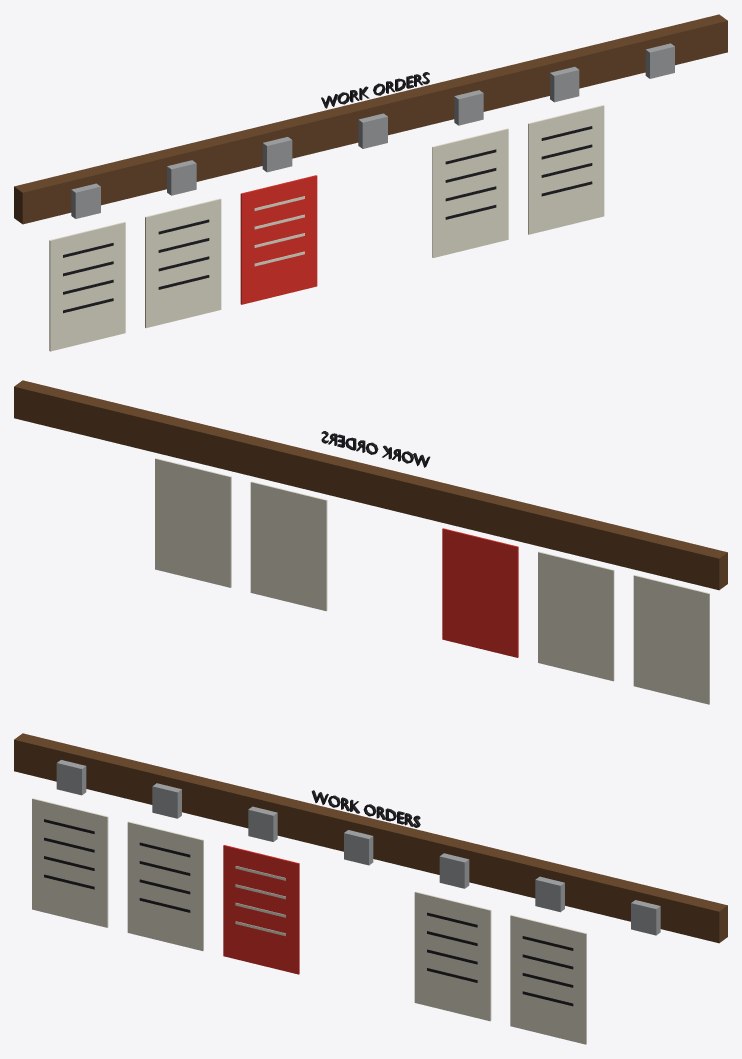
Rendered from dc.clip-rail.glb.
3 renders of one model, top to bottom at view 1: azimuth 30°, elevation 25°; view 2: azimuth 150°, elevation 25°; view 3: azimuth 330°, elevation 25°, orthographic.
Visible parts, largest first — view 1: rail, order2, order1, order4, order0, order5, head, clip2, clip6, clip3, clip5, clip0 (+2 smaller); view 2: rail, order4, order2, order5, order1, order0, head; view 3: rail, order4, order5, order2, order0, order1, head, clip4, clip0, clip3, clip6, clip1 (+2 smaller).
Part boxes in pixels (bbox=[...]): rail: bbox=[14, 14, 727, 224]; order2: bbox=[240, 175, 317, 304]; order1: bbox=[145, 198, 221, 327]; order4: bbox=[432, 128, 508, 257]; order0: bbox=[49, 222, 125, 351]; order5: bbox=[528, 105, 604, 234]; head: bbox=[321, 72, 429, 108]; clip2: bbox=[262, 137, 292, 172]; clip6: bbox=[645, 43, 674, 78]; clip3: bbox=[358, 113, 387, 148]; clip5: bbox=[550, 66, 579, 102]; clip0: bbox=[71, 183, 100, 218]; rail: bbox=[14, 380, 727, 590]; order4: bbox=[250, 481, 327, 611]; order2: bbox=[442, 528, 518, 657]; order5: bbox=[155, 458, 231, 587]; order1: bbox=[538, 551, 614, 681]; order0: bbox=[633, 575, 709, 704]; head: bbox=[321, 431, 430, 467]; rail: bbox=[14, 733, 727, 943]; order4: bbox=[414, 891, 491, 1021]; order5: bbox=[510, 915, 586, 1044]; order2: bbox=[223, 845, 299, 974]; order0: bbox=[32, 798, 108, 927]; order1: bbox=[127, 821, 203, 950]; head: bbox=[311, 790, 420, 827]; clip4: bbox=[439, 853, 469, 888]; clip0: bbox=[56, 760, 86, 795]; clip3: bbox=[344, 830, 373, 865]; clip6: bbox=[631, 900, 660, 935]; clip1: bbox=[152, 783, 181, 818].
Bounding box in the file's own units: 1.4 × 0.3467 × 0.048.
